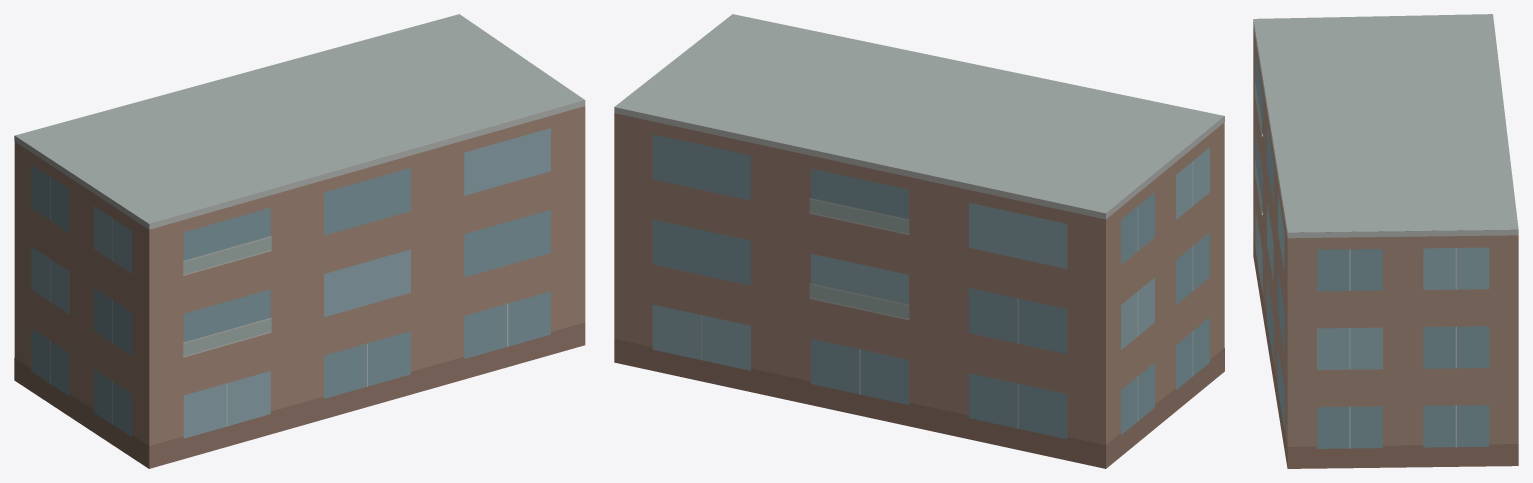
File: survey-upis-32459430.glb
The picture shows the model from 3 angles, left to right: view 1: azimuth 30°, elevation 25°; view 2: azimuth 150°, elevation 25°; view 3: azimuth 270°, elevation 25°; orthographic projection. The views are drawn at different scales.
Parts seen in each view (by area): view 1: survey-upis-32459430.tmp; view 2: survey-upis-32459430.tmp; view 3: survey-upis-32459430.tmp.
Part boxes in pixels (box(x1,y1,x2,y2)): survey-upis-32459430.tmp: box(14, 14, 585, 468); survey-upis-32459430.tmp: box(614, 14, 1224, 468); survey-upis-32459430.tmp: box(1253, 14, 1518, 468).
Size of the model in its own units: 20.25 by 10.2 by 10.39.
